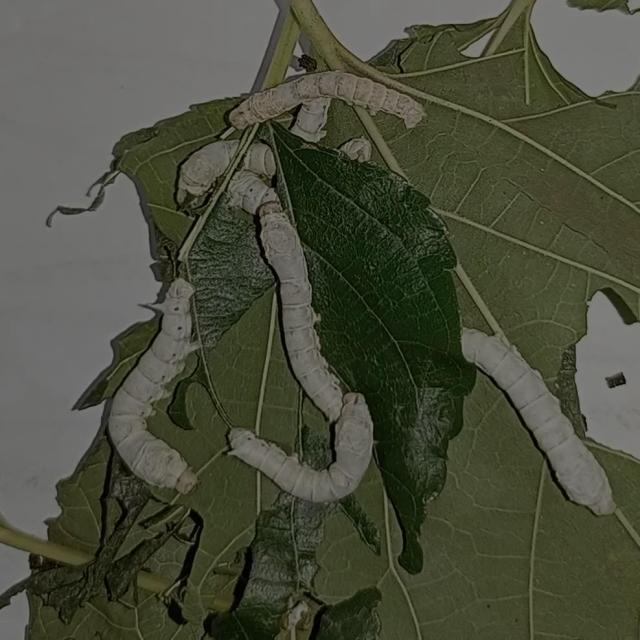Healthy: (78, 12, 623, 550)
